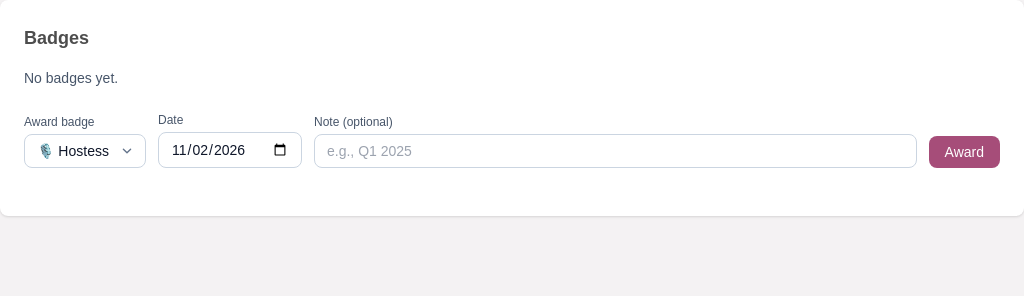
it: MemberBadgesPanel › shows the error message when awarding fails
Click the button "Award".
click(964, 152)  # box [929,136,1000,168]
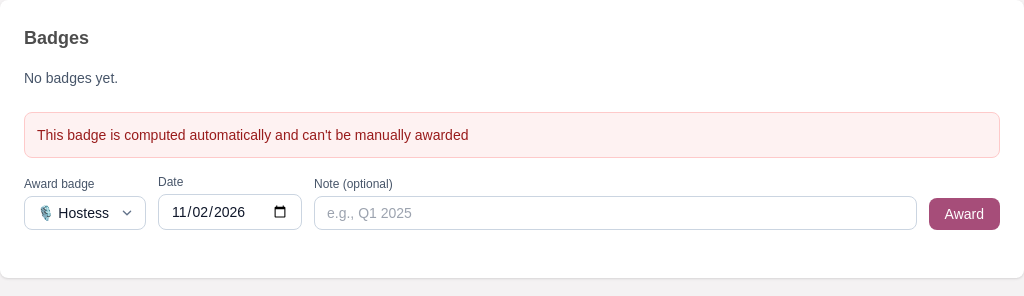
Result: the text "This badge is computed automatically and can't be manually awarded" is shown at [24,112,1000,158]
